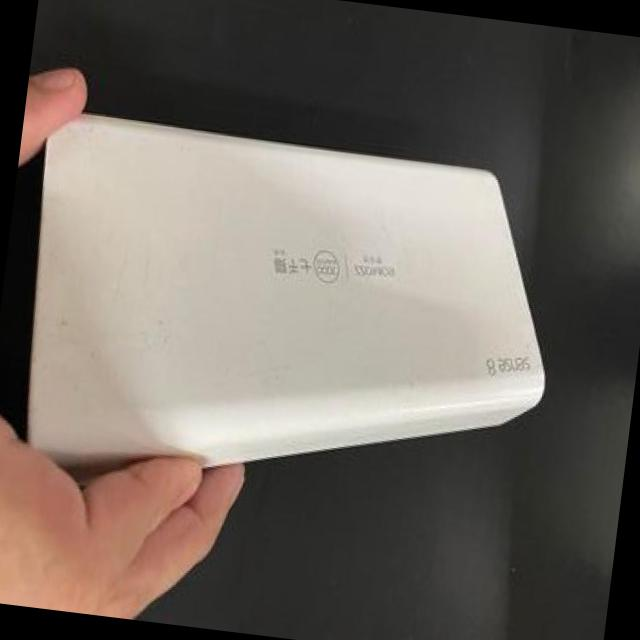power_bank: (0, 101, 579, 543)
